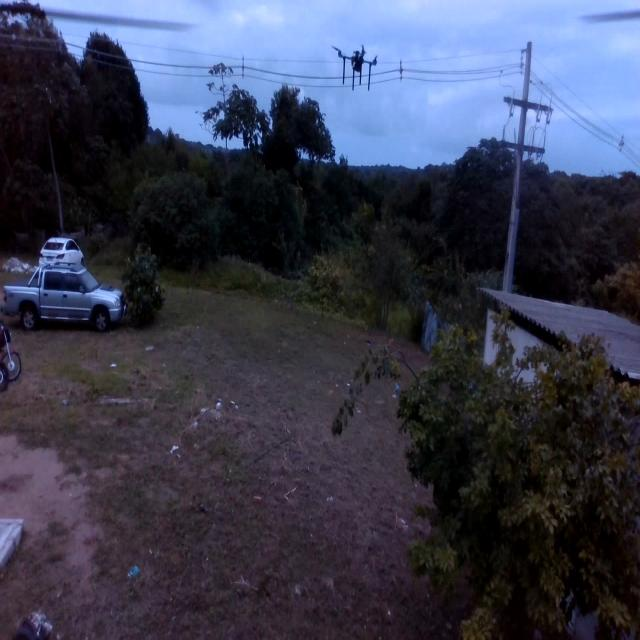-uav-: (324, 22, 387, 107)
